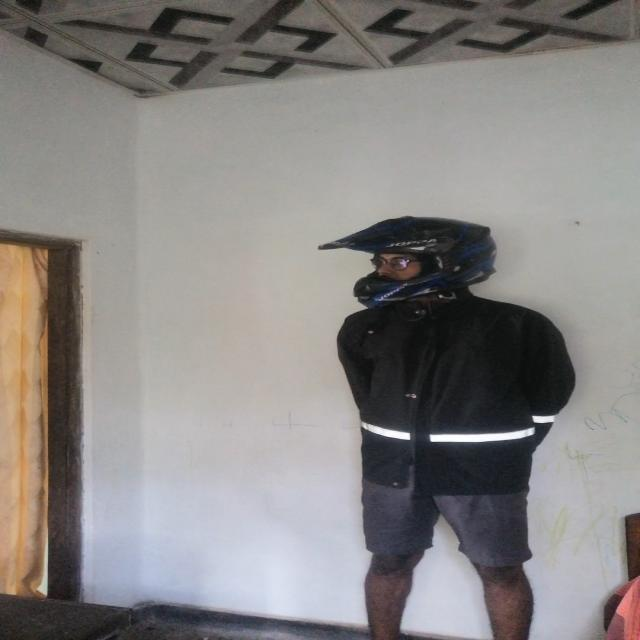Helmet_Wearer: (322, 214, 502, 313)
Jacket_Wearer: (308, 283, 588, 499)
Person: (313, 218, 573, 625)
